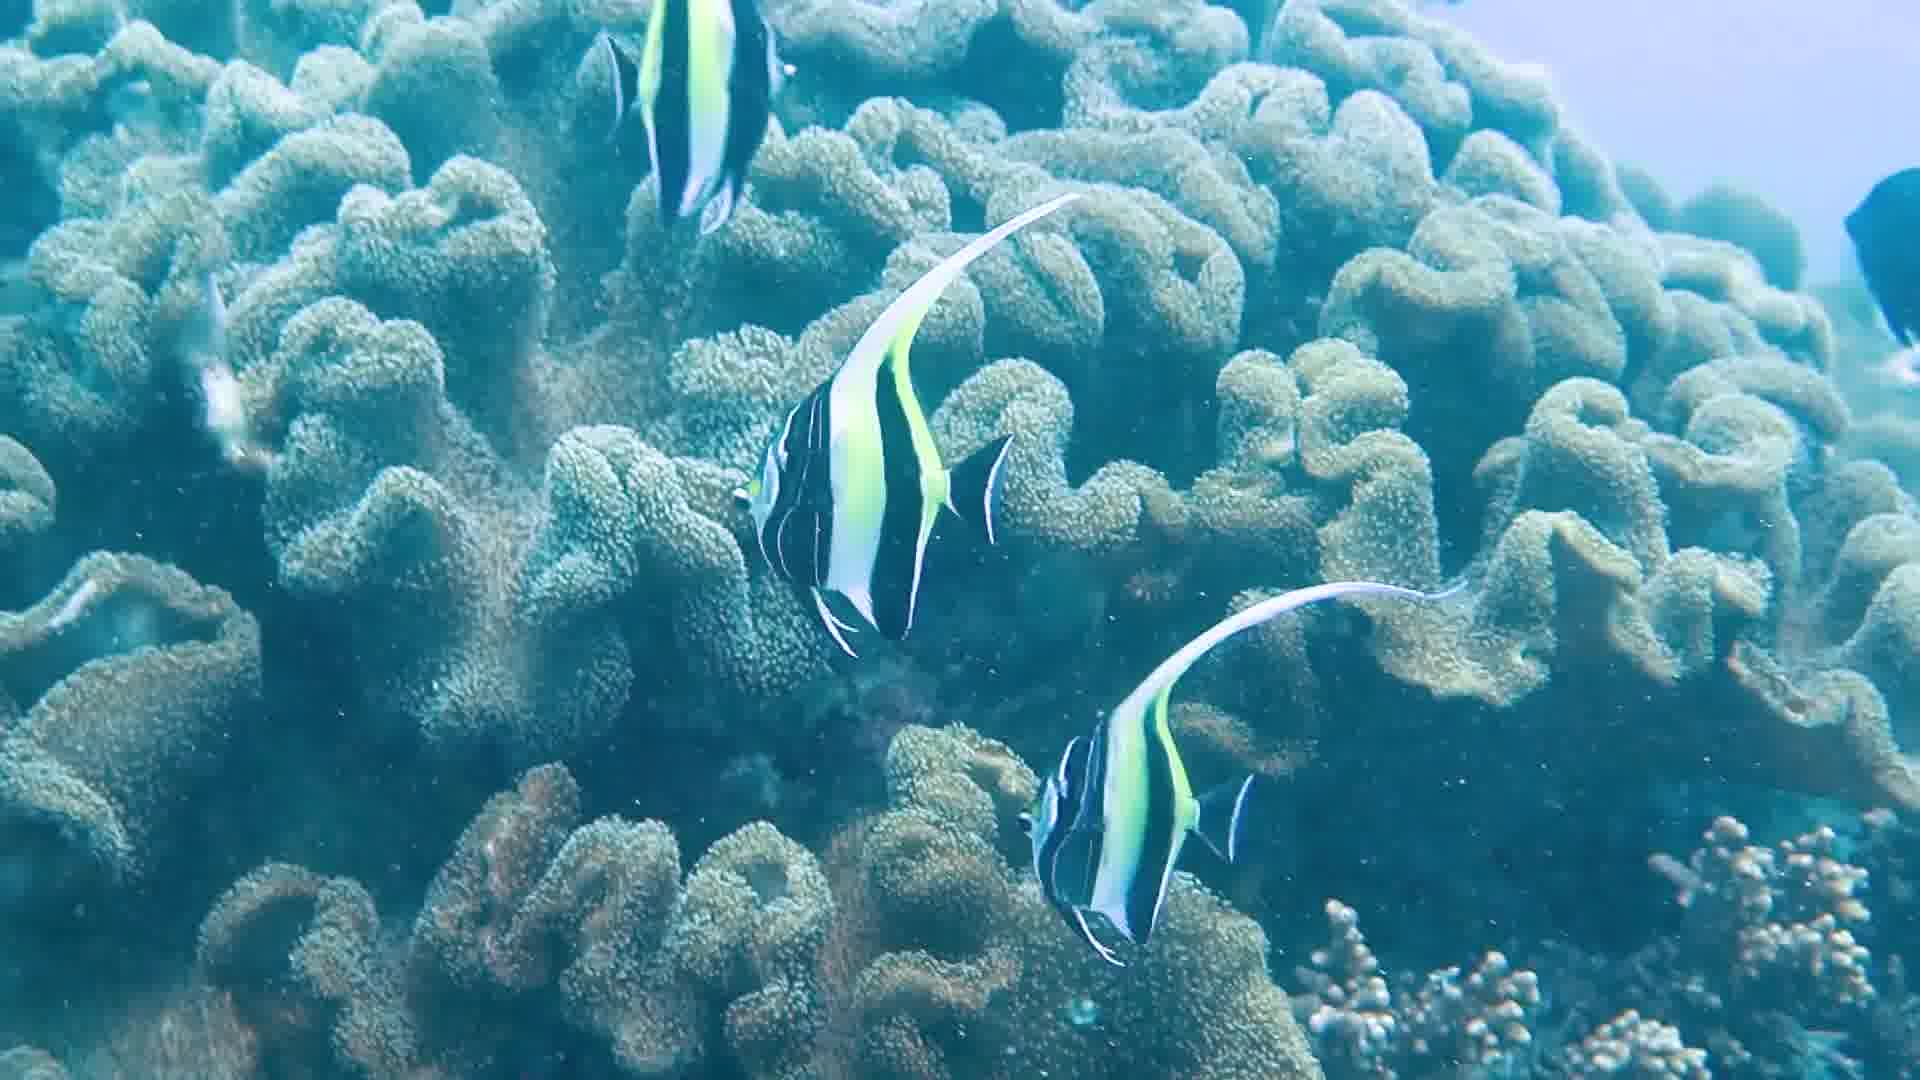Zanclus cornutus: (724, 328, 1027, 665), (977, 675, 1280, 1010), (576, 1, 814, 237)
